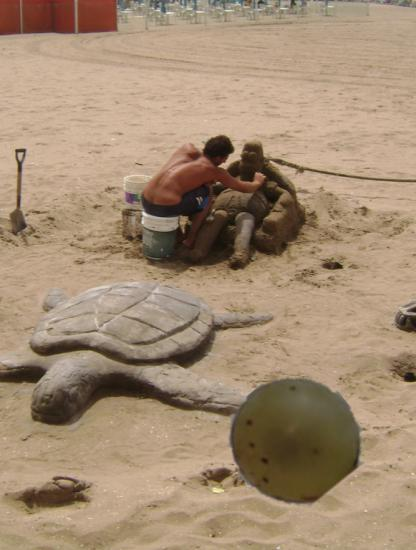Grape: (230, 376, 359, 505)
